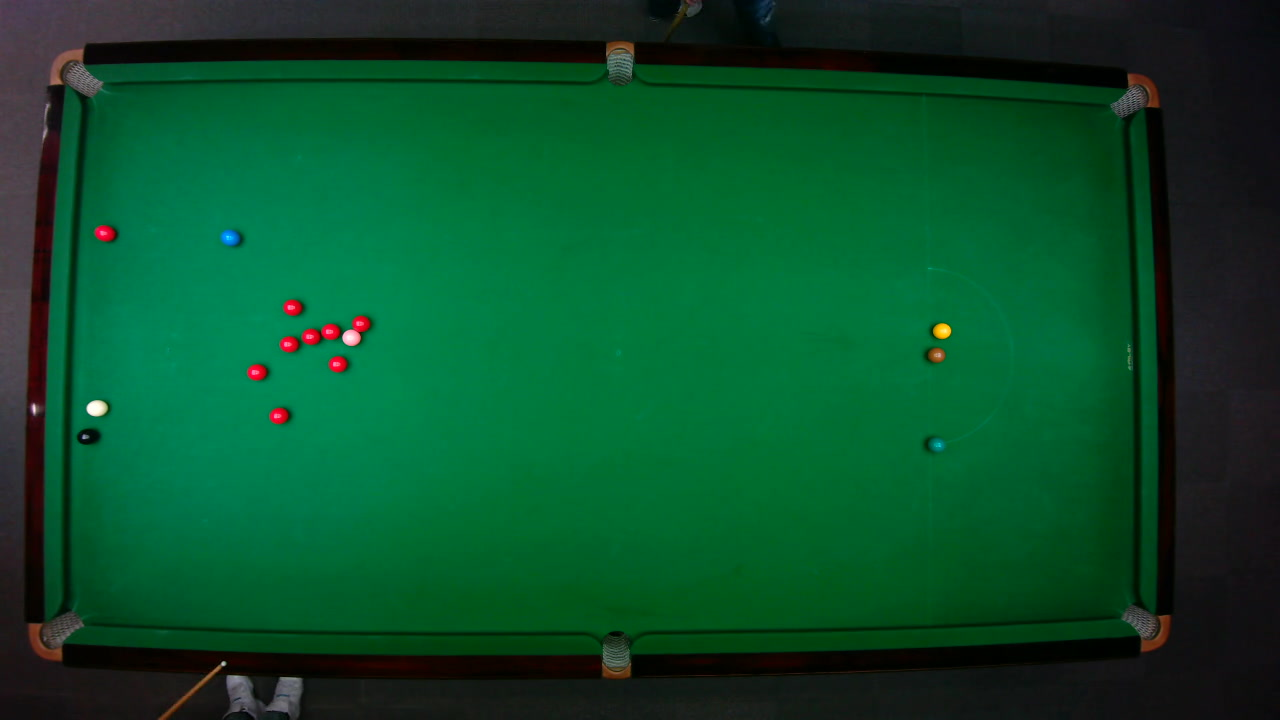bag: (25, 608, 85, 660), (47, 47, 104, 98), (1119, 602, 1171, 651), (1108, 72, 1160, 119), (601, 629, 630, 679), (605, 39, 633, 86)
black: (75, 427, 97, 444)
blue: (219, 228, 240, 246)
brown: (925, 346, 945, 362)
cue: (158, 660, 226, 719)
green: (926, 435, 945, 452)
pink: (340, 328, 362, 346)
red: (93, 223, 116, 242), (329, 355, 350, 374), (267, 406, 289, 424), (300, 328, 322, 346), (247, 363, 269, 381), (278, 335, 300, 353), (351, 315, 372, 333), (281, 298, 303, 315), (320, 323, 341, 340)
white: (84, 397, 109, 416)
yellow: (931, 321, 952, 339)
zone: (926, 265, 1013, 444)
